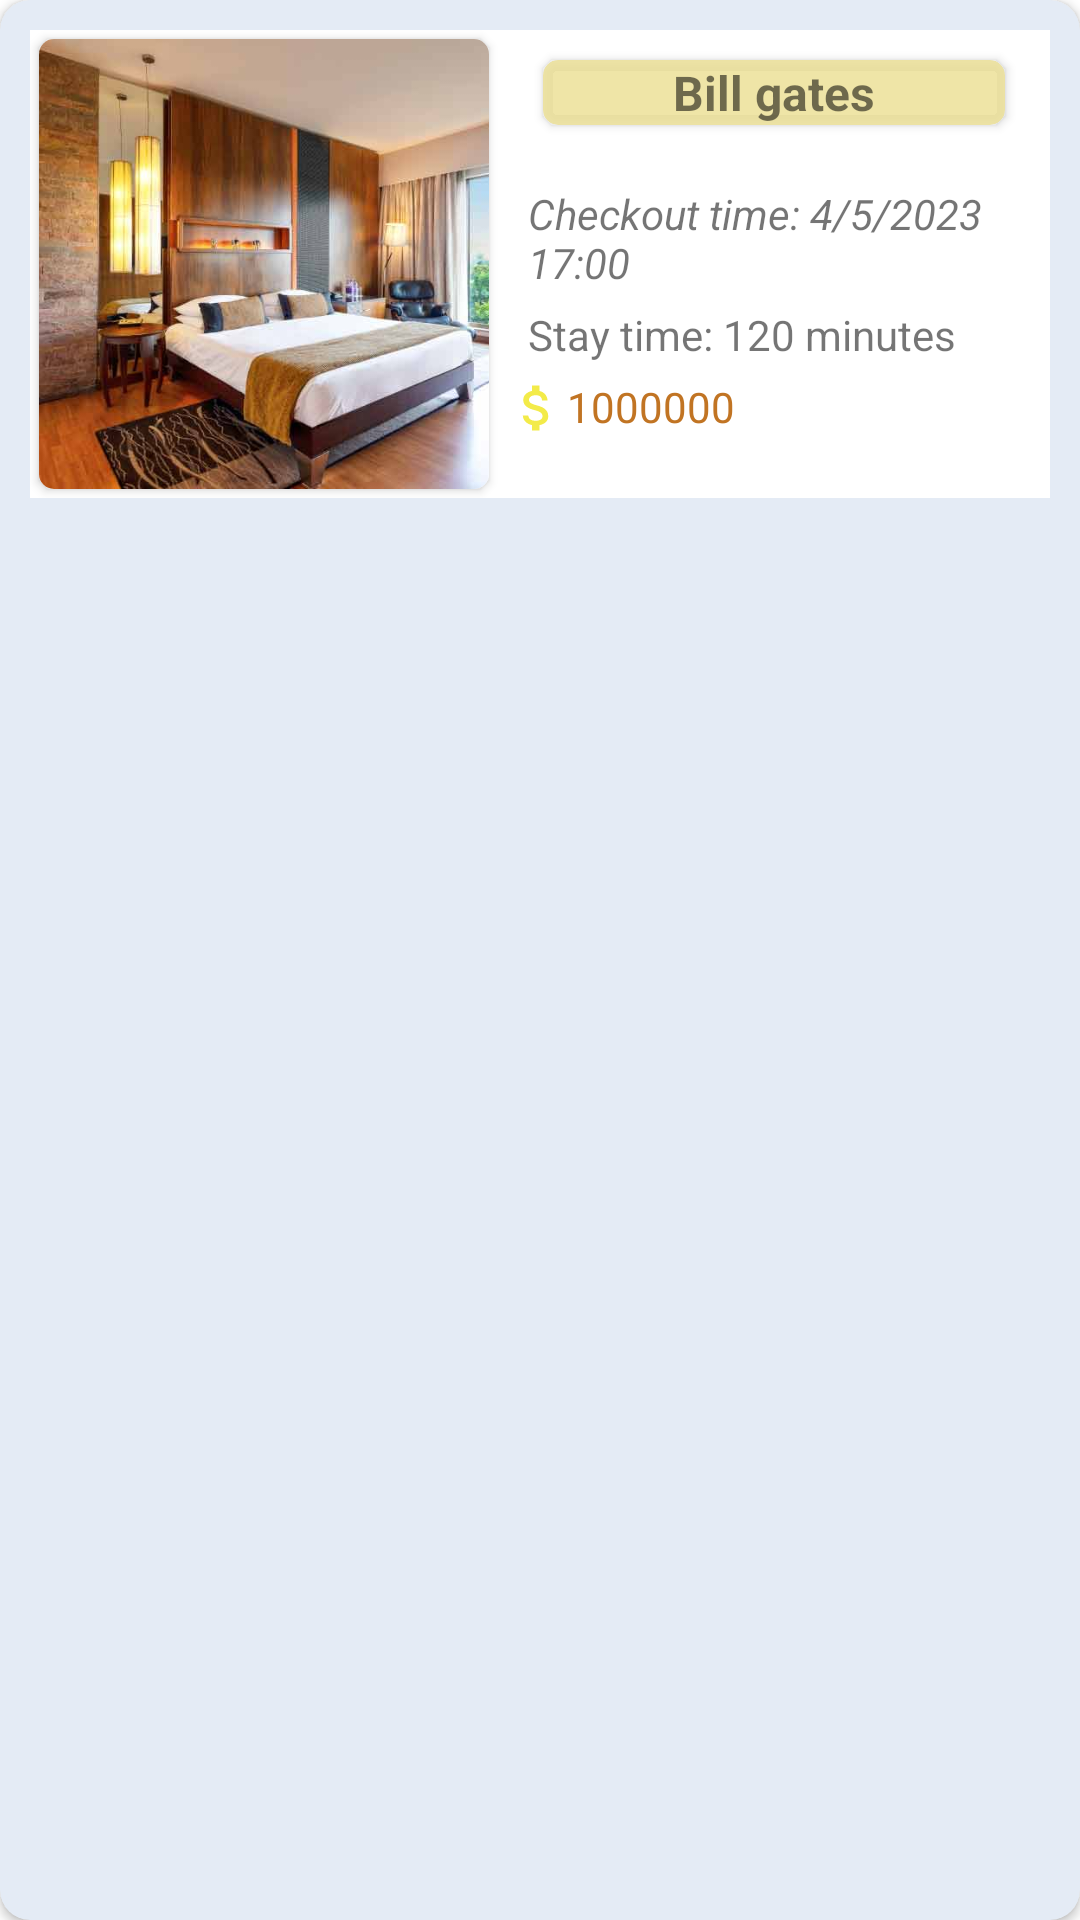

Icon bounding boxes for this 1080w x 1920h phone screenshot, format (x1, y1, x2, y2):
money: (523, 385, 549, 431)
